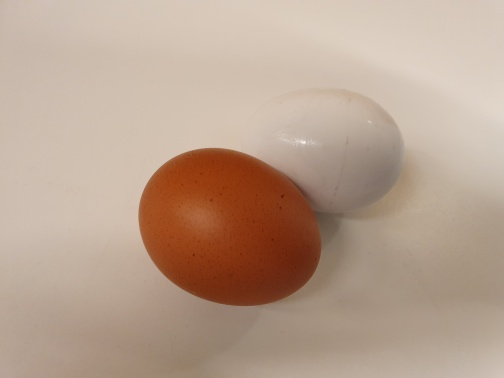egg: (139, 143, 322, 308), (247, 87, 407, 219)
